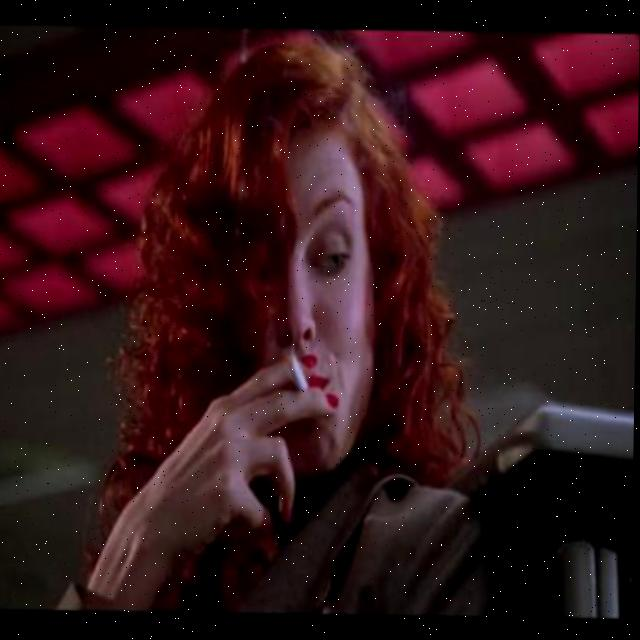cigarette: (286, 348, 311, 395)
